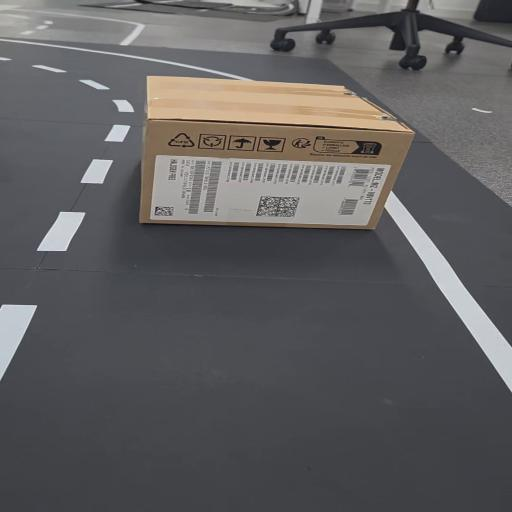Box: (136, 73, 415, 243)
